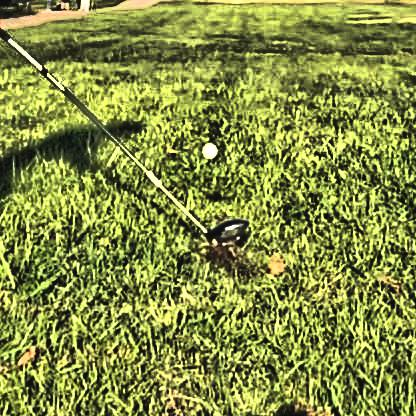golfball: (199, 140, 214, 157)
